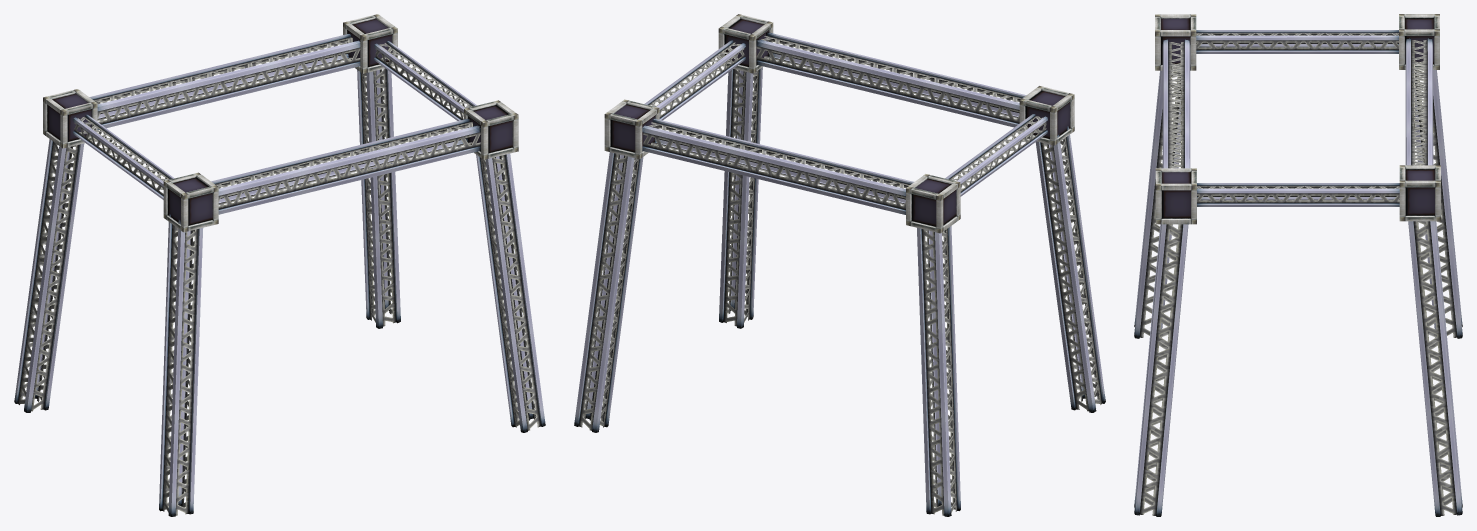
File: gate_metal_12x7.DAE
3 renders of one model, left to right at view 1: azimuth 30°, elevation 25°; view 2: azimuth 150°, elevation 25°; view 3: azimuth 270°, elevation 25°, orthographic. The views are drawn at different scales.
Parts seen in each view (by area): view 1: Object01; view 2: Object01; view 3: Object01.
Part boxes in pixels (x1,y1,x2,y2): Object01: (14, 14, 545, 516); Object01: (574, 14, 1105, 516); Object01: (1134, 14, 1462, 516).
Size of the model in its own units: 8.97 by 7.15 by 6.54.
